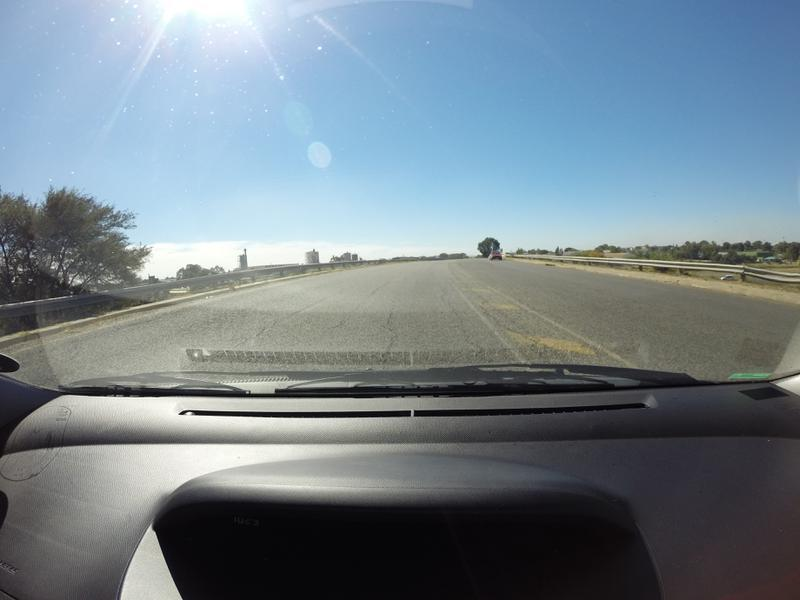pothole: (528, 323, 624, 360), (480, 299, 537, 312)
